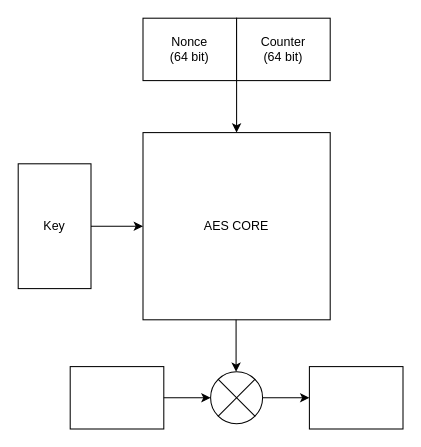
Image size: 421x447. Some labels were removed from this diagram. Here are the shapes that lost their labels. From the top down, the centre of each, then its label:
At pixel 116 397: "Plaintext (128 bit)".
At pixel 355 397: "Chipertext (128 bit)".
